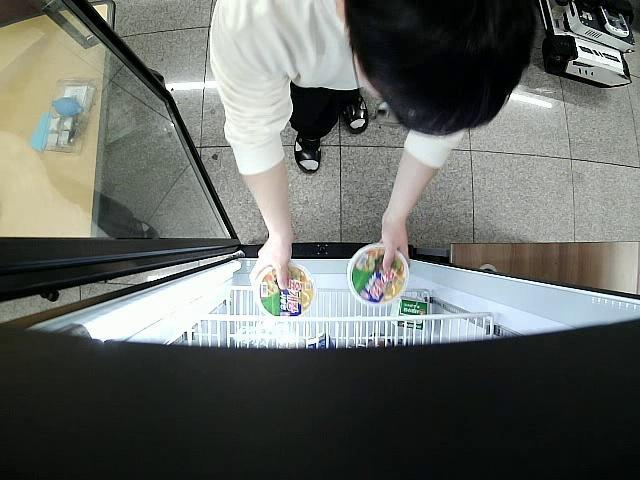09_yukGaeJang: (348, 243, 408, 305), (258, 261, 316, 318)
